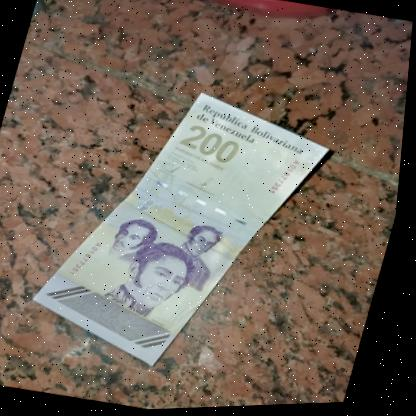vef_front: (21, 69, 344, 395)
